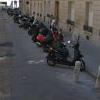Motorcycle: (32, 25, 84, 67)
